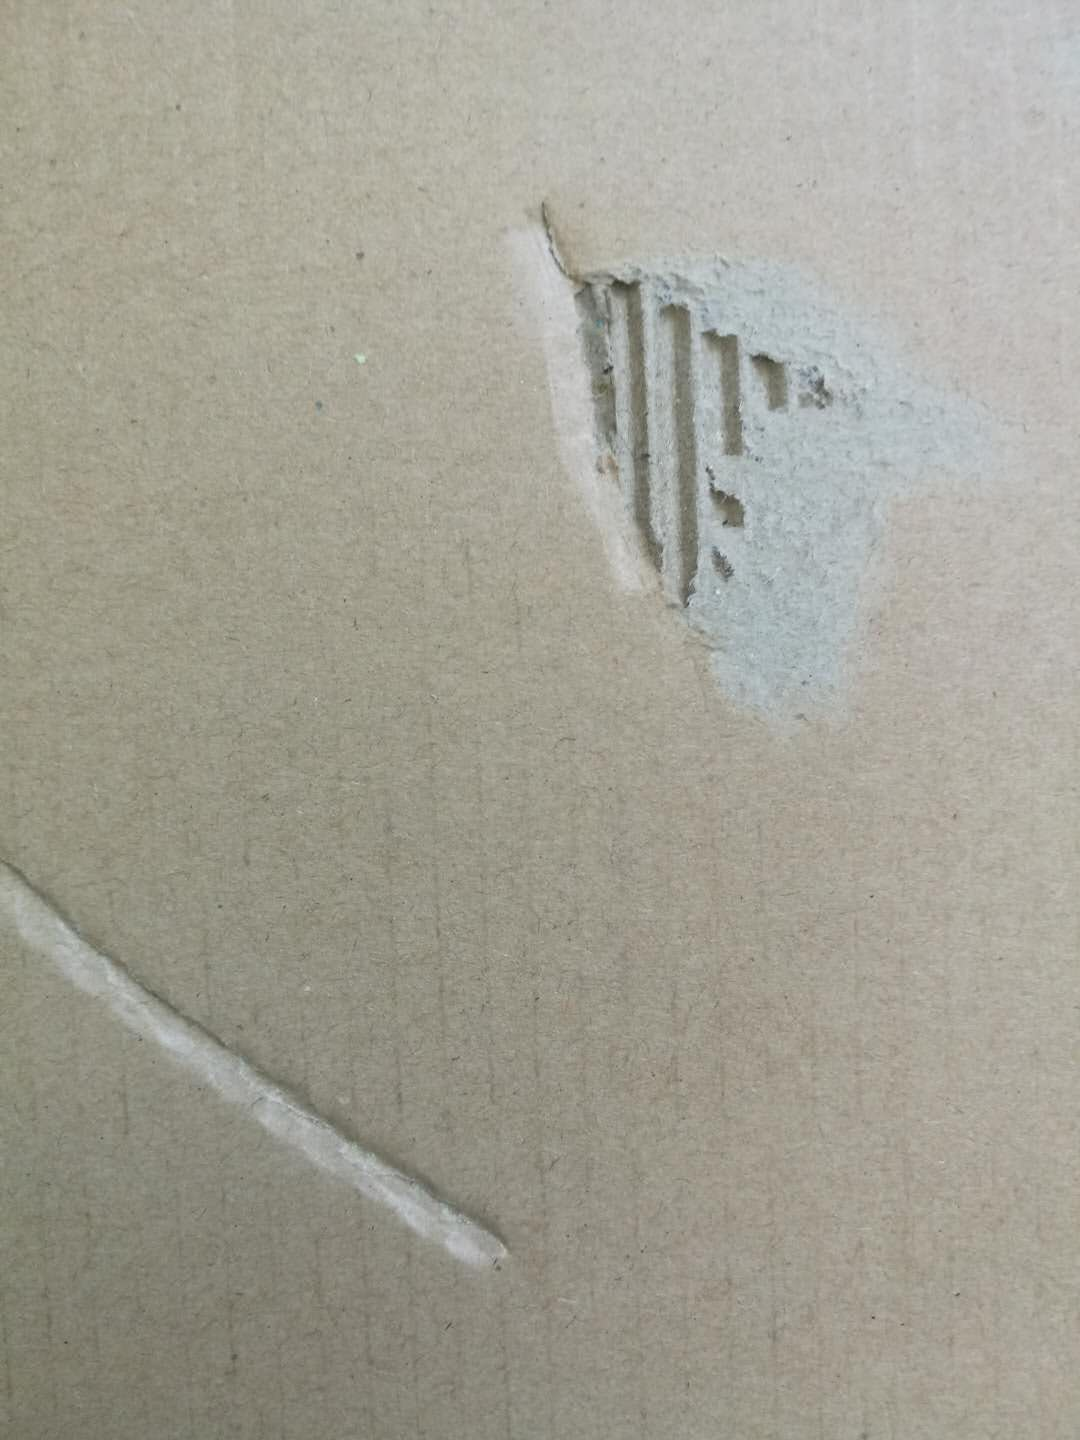defect: (495, 167, 1043, 766), (1, 813, 523, 1299)
